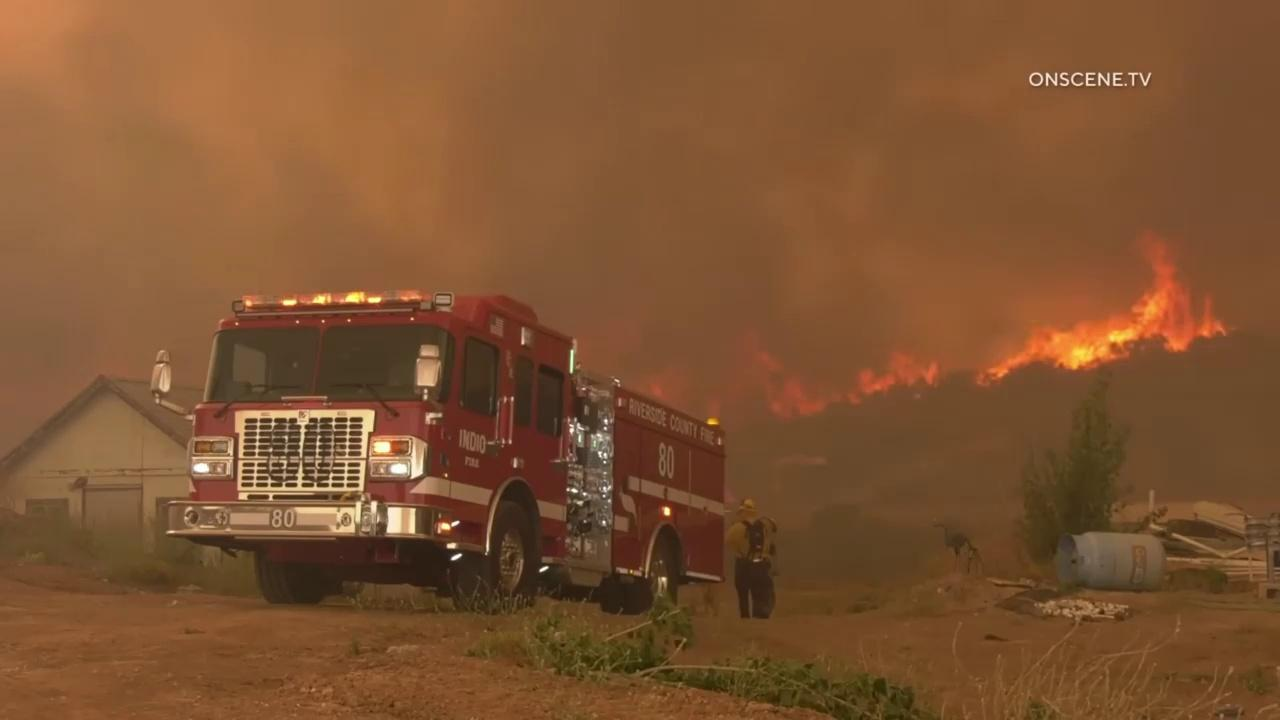fire: (704, 226, 1234, 423), (644, 380, 674, 403)
smoke: (0, 0, 1280, 428)
